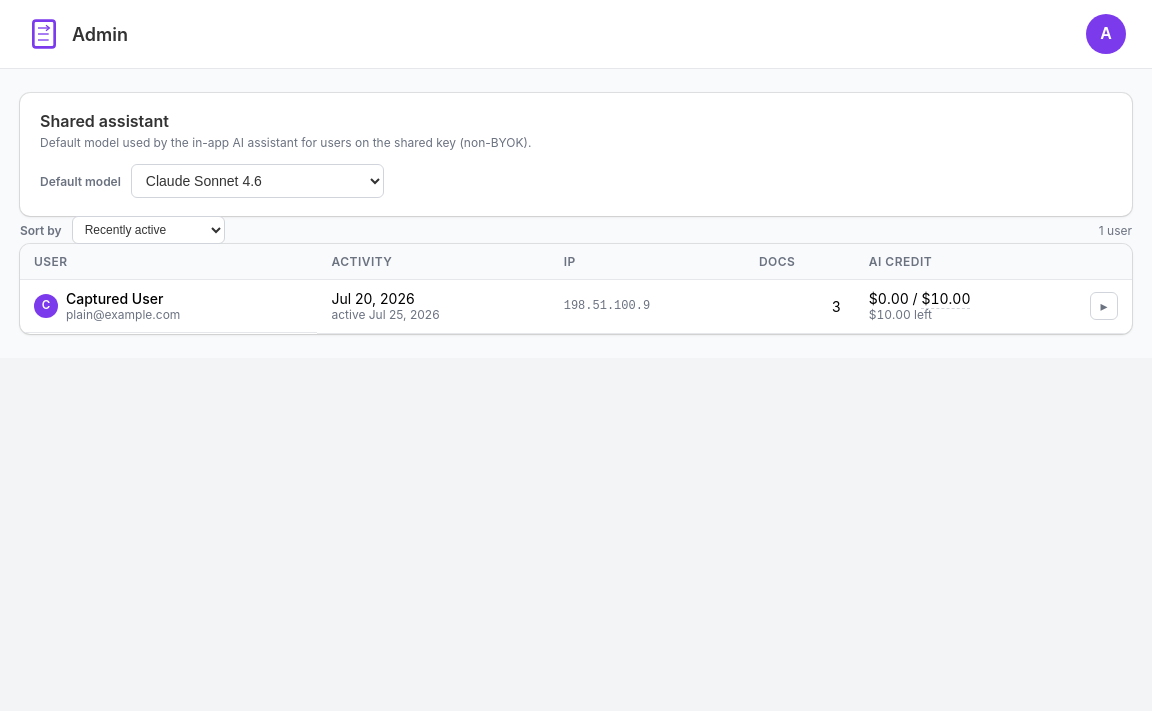
AdminPage — per-user chat model override (feature 035) › shows Default (<shared effective label>) selected for a user with no override
The image size is (1152, 711).
Click the button named "Expand details" at [1104, 306], box [1090, 292, 1118, 320]
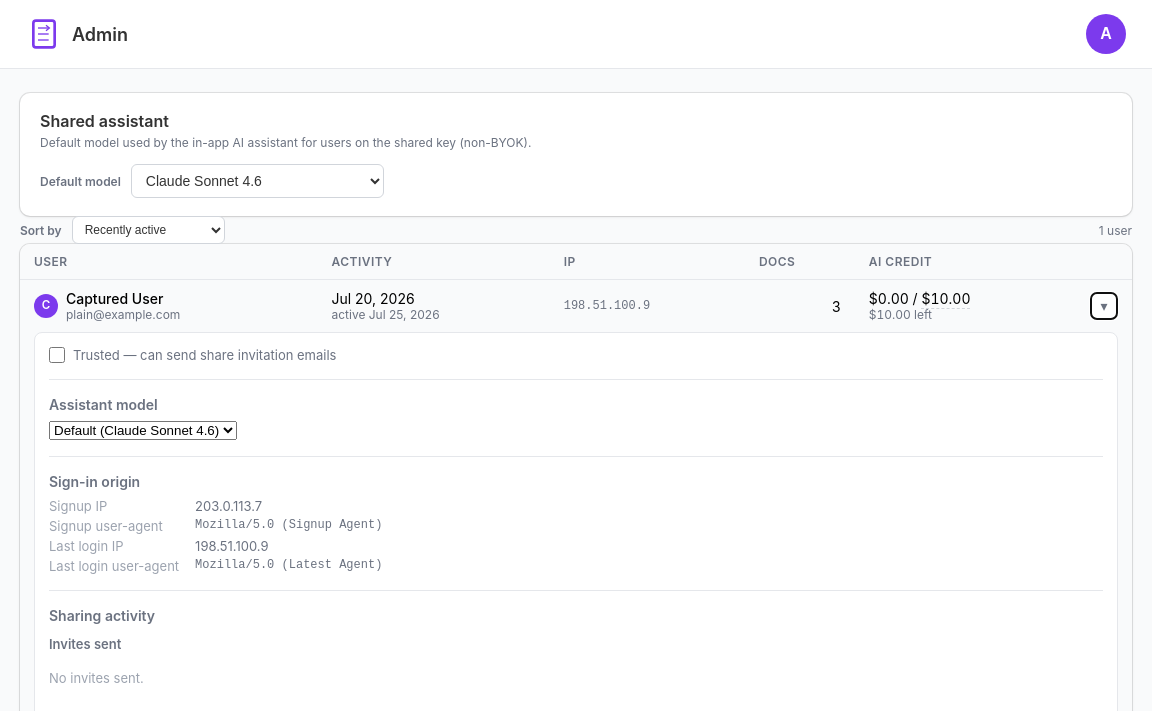
Check: the 3rd dropdown shows "Default (Claude Sonnet 4.6)", box [49, 421, 237, 440]
